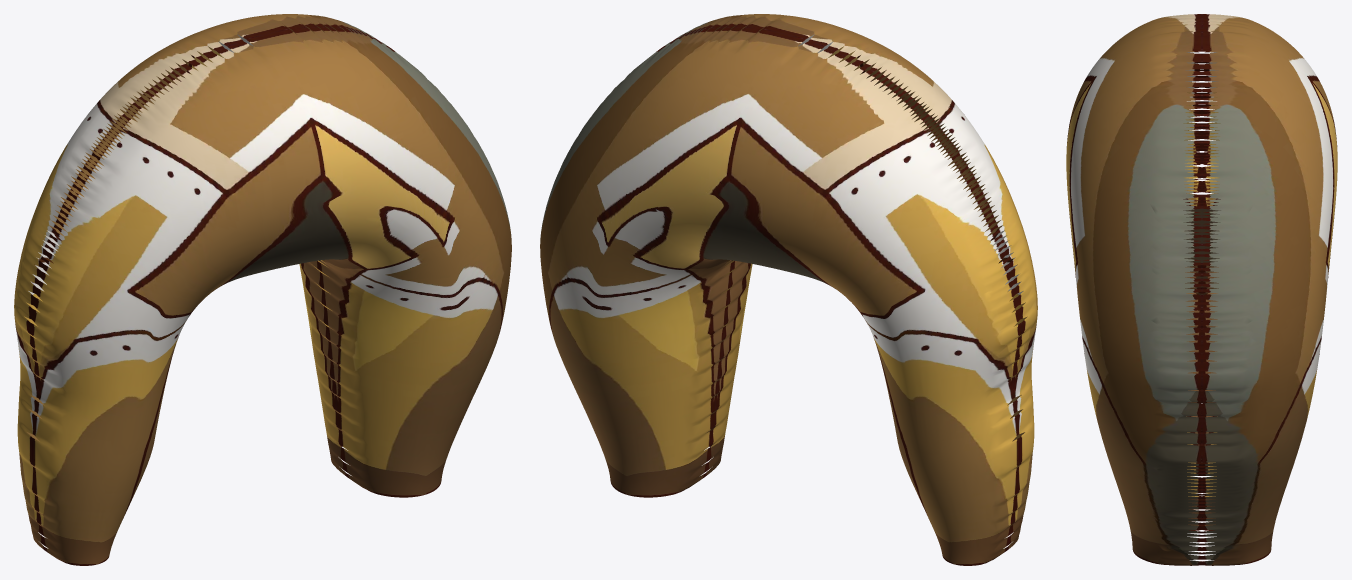
The model's file is bearing_arch.glb.
3 views of the same model, side by side, from view 1: azimuth 30°, elevation 25°; view 2: azimuth 150°, elevation 25°; view 3: azimuth 270°, elevation 25° (orthographic). The views are drawn at different scales.
Parts seen in each view (by area): view 1: bearing_arch; view 2: bearing_arch; view 3: bearing_arch.
Boxes of the visible parts, x1,y1,x2,y2 form: bearing_arch: (14,14,511,565); bearing_arch: (540,14,1037,565); bearing_arch: (1066,14,1337,565).
Size of the model in its own units: 0.9889 by 0.9489 by 0.5167.
Materials: 1 (1 with a texture image).
